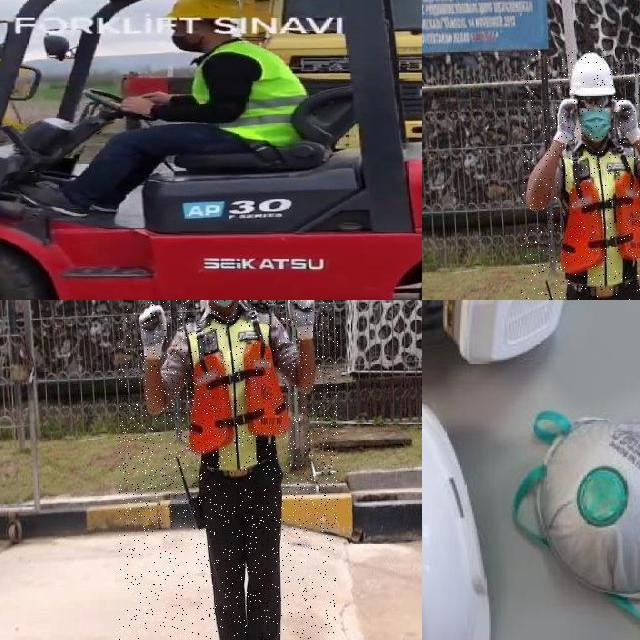GLASS: (576, 97, 613, 109)
GLOVE: (139, 304, 169, 360), (288, 300, 317, 342), (613, 99, 640, 143), (552, 99, 577, 143)
HELMET: (422, 376, 505, 640), (569, 53, 618, 98)
VEST: (180, 306, 293, 477), (557, 143, 640, 289)
